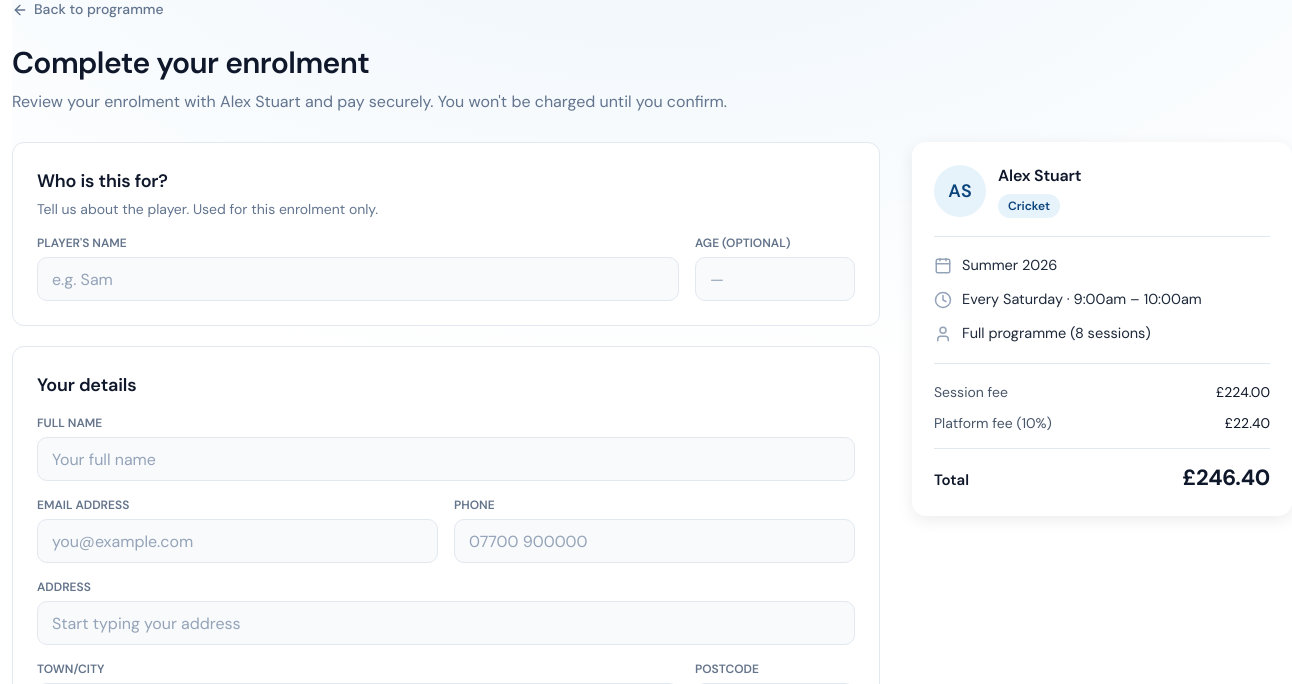
Test: GuestEnrolmentFlow — handlePay success (confirmation view) › shows "You're enrolled!" after handlePay resolves successfully
The image size is (1292, 684).
Type "Yuwin Test" into the field with test id "participant-name-input" at (358, 280), box [37,258,679,302]
(page scrolled)
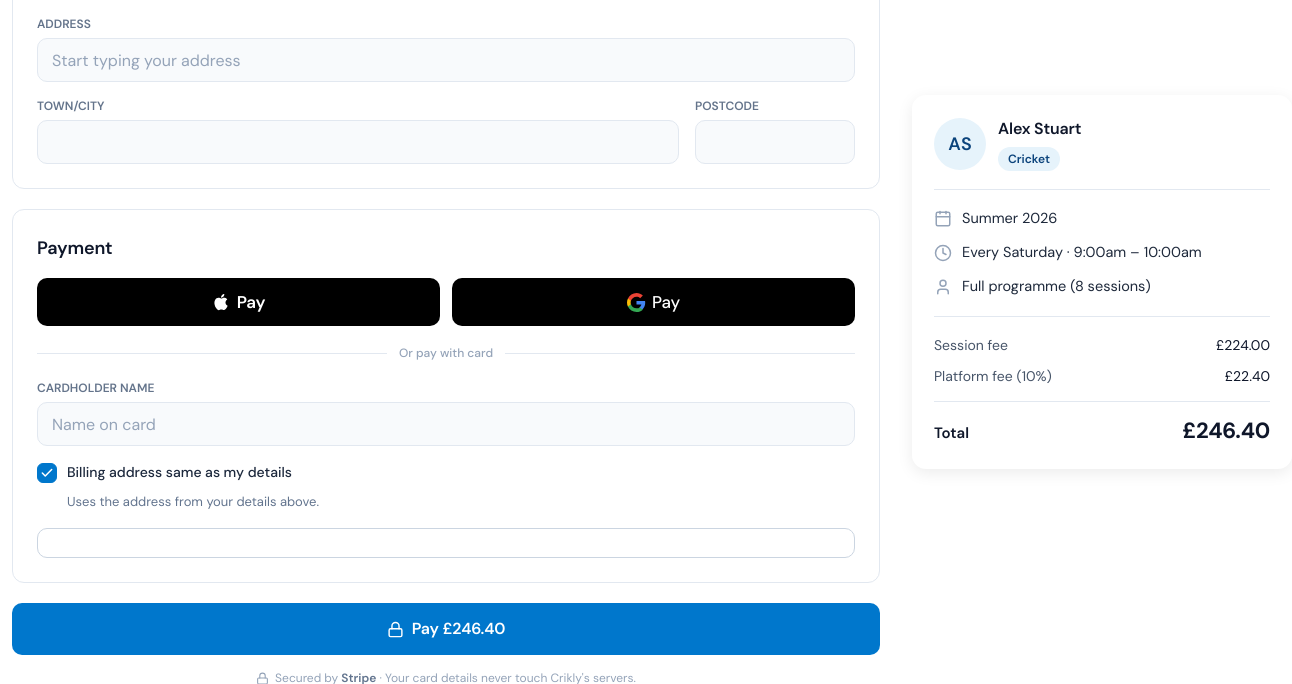
Click the button with test id "pay-button" at (446, 629), box [12,603,880,655]
(page scrolled)
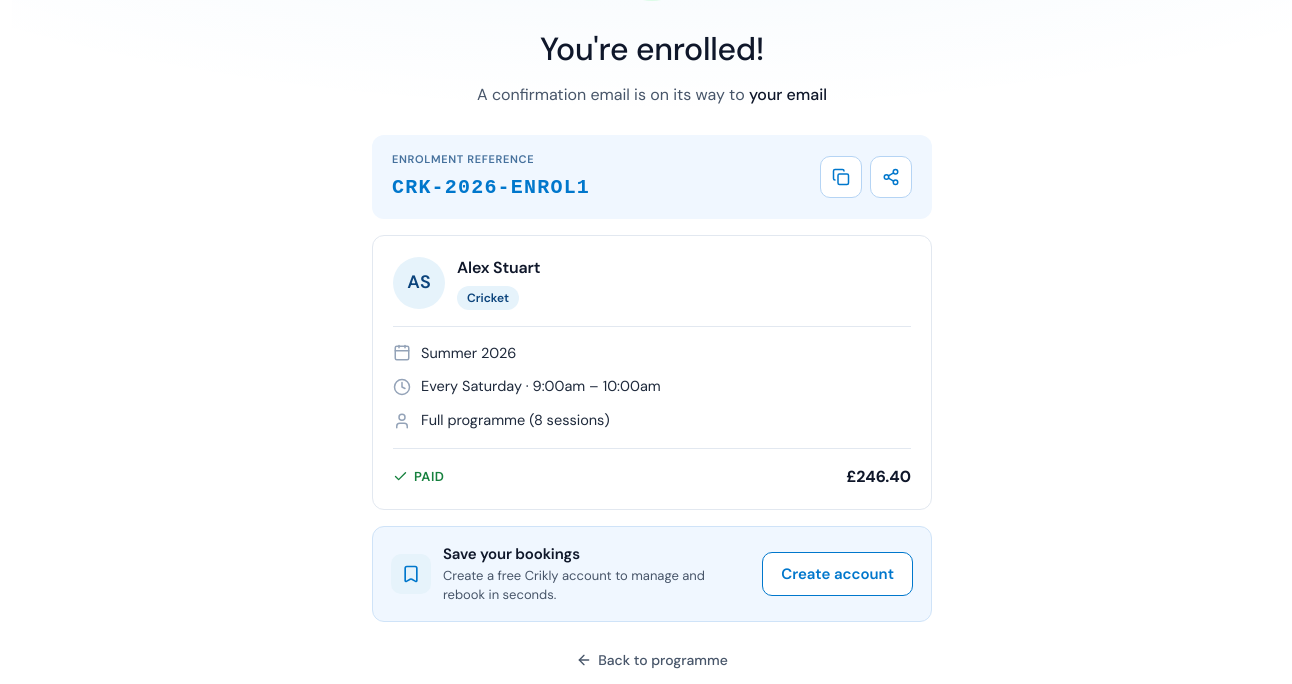
Result: the heading "You're enrolled!" is shown at [540,25,764,73]
